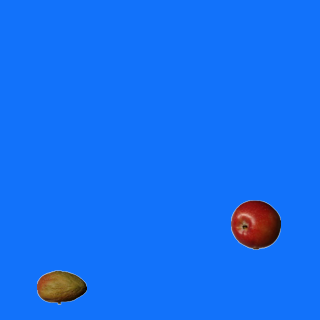Apple Braeburn: (230, 199, 280, 249)
Papaya: (36, 262, 86, 312)
